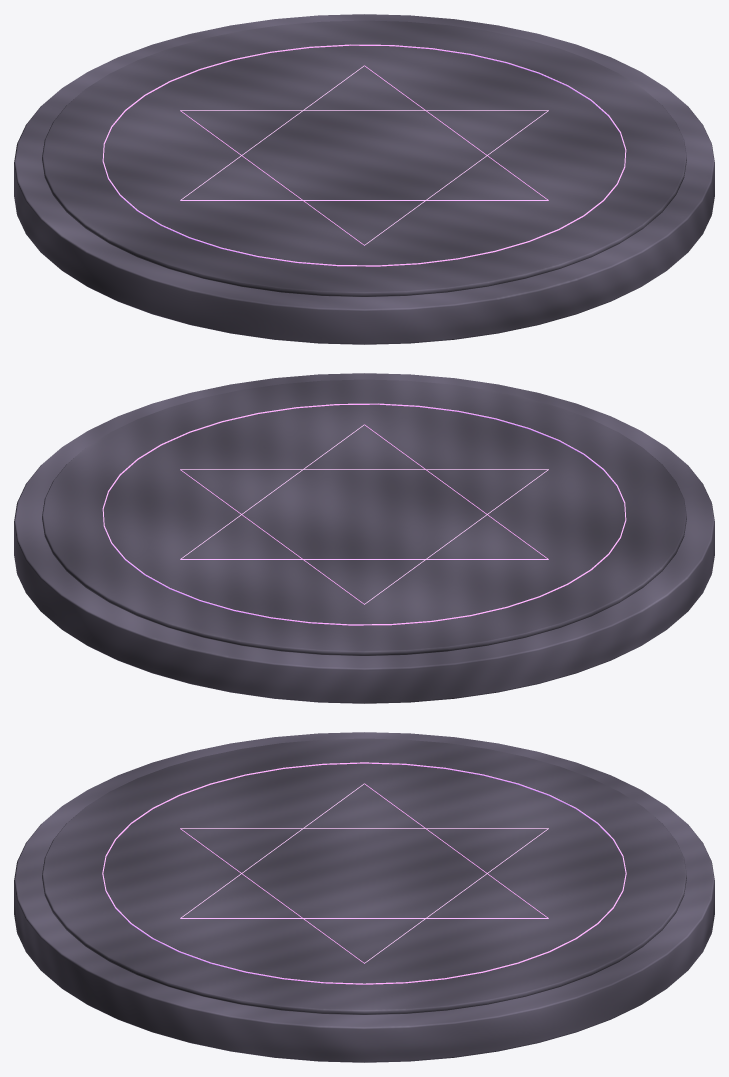
Rendered from Furn_Dun_EntranceCircle.fbx.
The picture shows the model from 3 angles, top to bottom: view 1: azimuth 30°, elevation 25°; view 2: azimuth 150°, elevation 25°; view 3: azimuth 270°, elevation 25°; orthographic projection.
Parts seen in each view (by area): view 1: Furn_Dun_EntranceCircle; view 2: Furn_Dun_EntranceCircle; view 3: Furn_Dun_EntranceCircle.
Boxes of the visible parts, bbox=[...] form: Furn_Dun_EntranceCircle: bbox=[14, 14, 714, 344]; Furn_Dun_EntranceCircle: bbox=[14, 373, 714, 703]; Furn_Dun_EntranceCircle: bbox=[14, 732, 714, 1062].
Size of the model in its own units: 3 by 0.2 by 3.
Materials: 2 (1 with a texture image).
